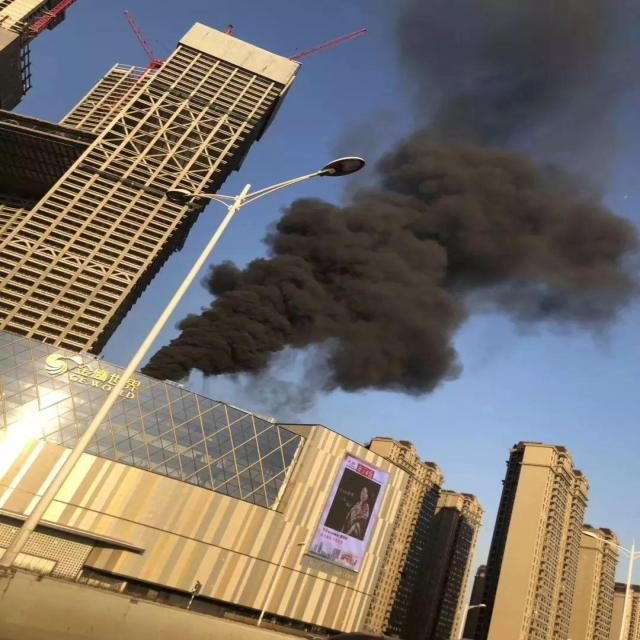Smoke: (142, 1, 640, 417)
